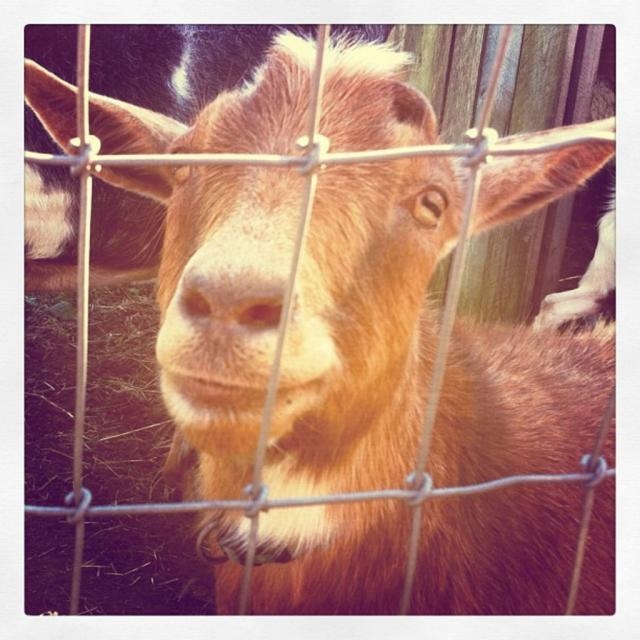Goat: (26, 24, 617, 615)
